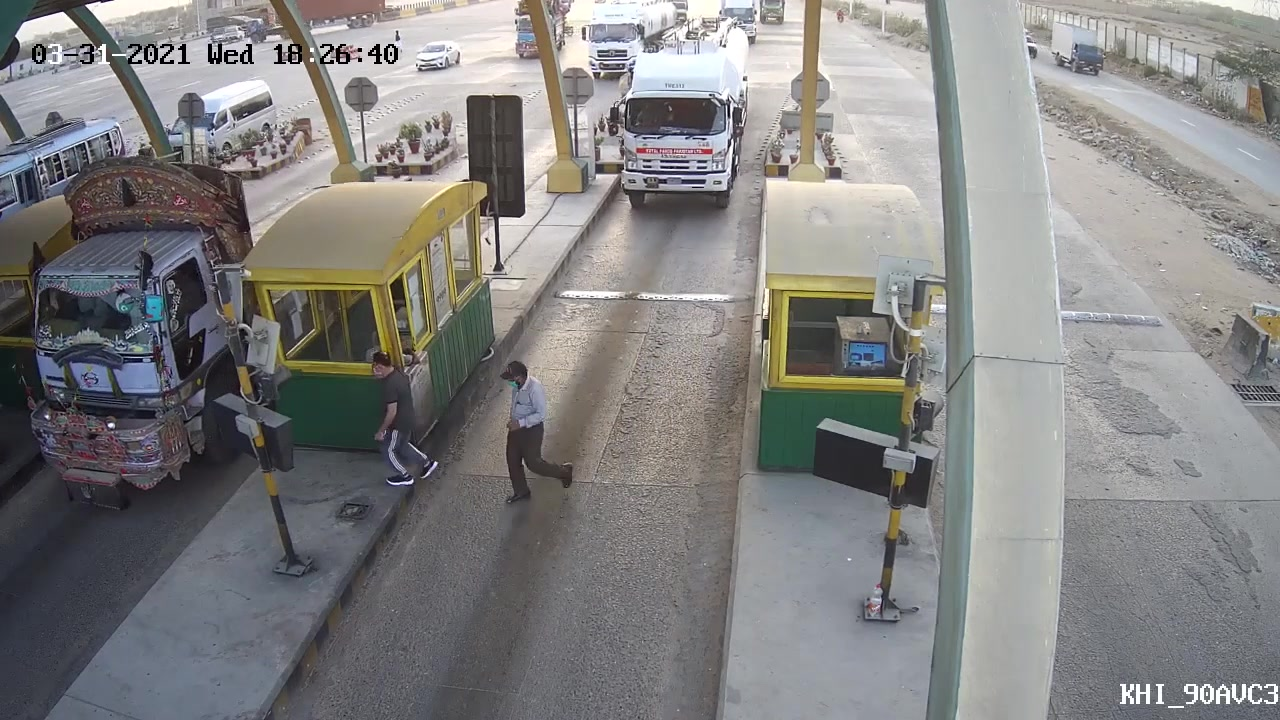F6: (603, 9, 765, 216)
